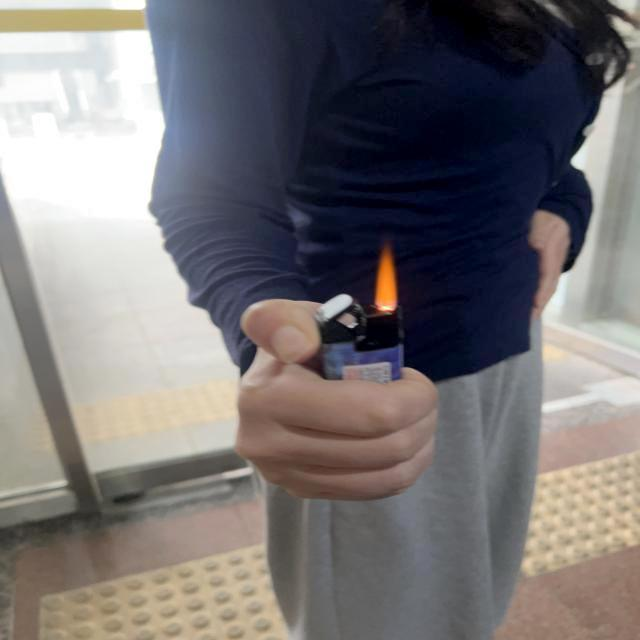fire: (372, 242, 400, 310)
